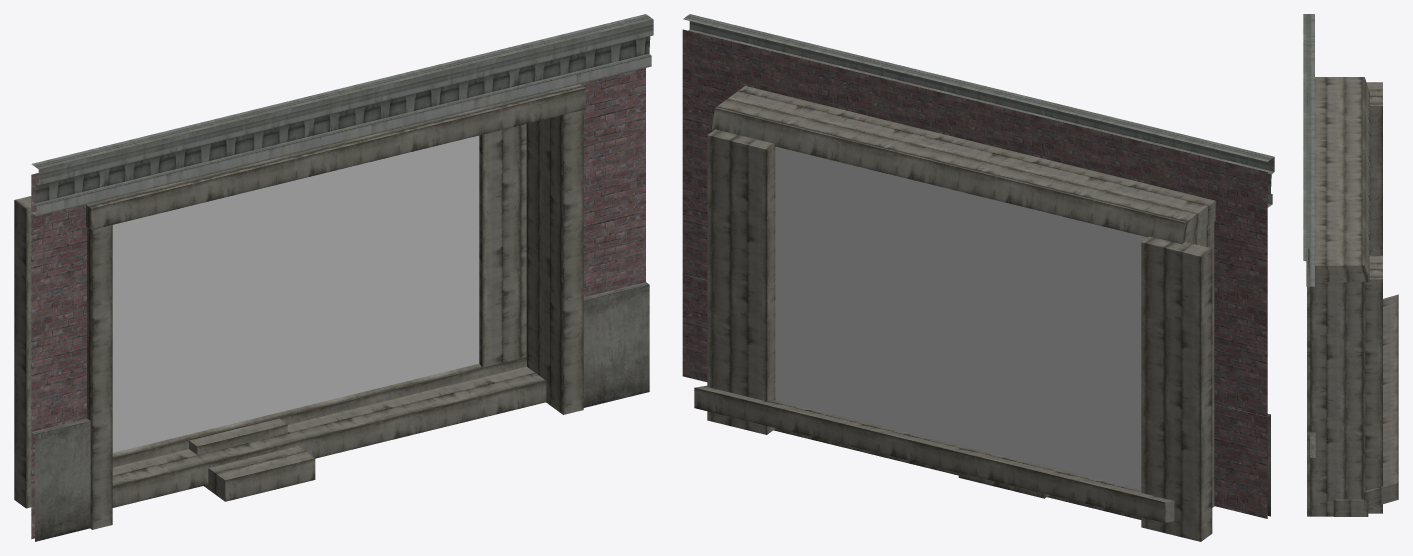
The model's file is Wall_C_Brick_Xxxshop_6x.FBX.
3 views of the same model, side by side, from view 1: azimuth 30°, elevation 25°; view 2: azimuth 150°, elevation 25°; view 3: azimuth 270°, elevation 25° (orthographic). The views are drawn at different scales.
Visible parts, largest first — view 1: Wall_C_Brick_Xxxshop_6x; view 2: Wall_C_Brick_Xxxshop_6x; view 3: Wall_C_Brick_Xxxshop_6x.
Boxes of the visible parts, x1,y1,x2,y2 form: Wall_C_Brick_Xxxshop_6x: [14, 14, 653, 541]; Wall_C_Brick_Xxxshop_6x: [682, 14, 1274, 541]; Wall_C_Brick_Xxxshop_6x: [1303, 14, 1398, 516].
Size of the model in its own units: 600 by 355 by 103.
